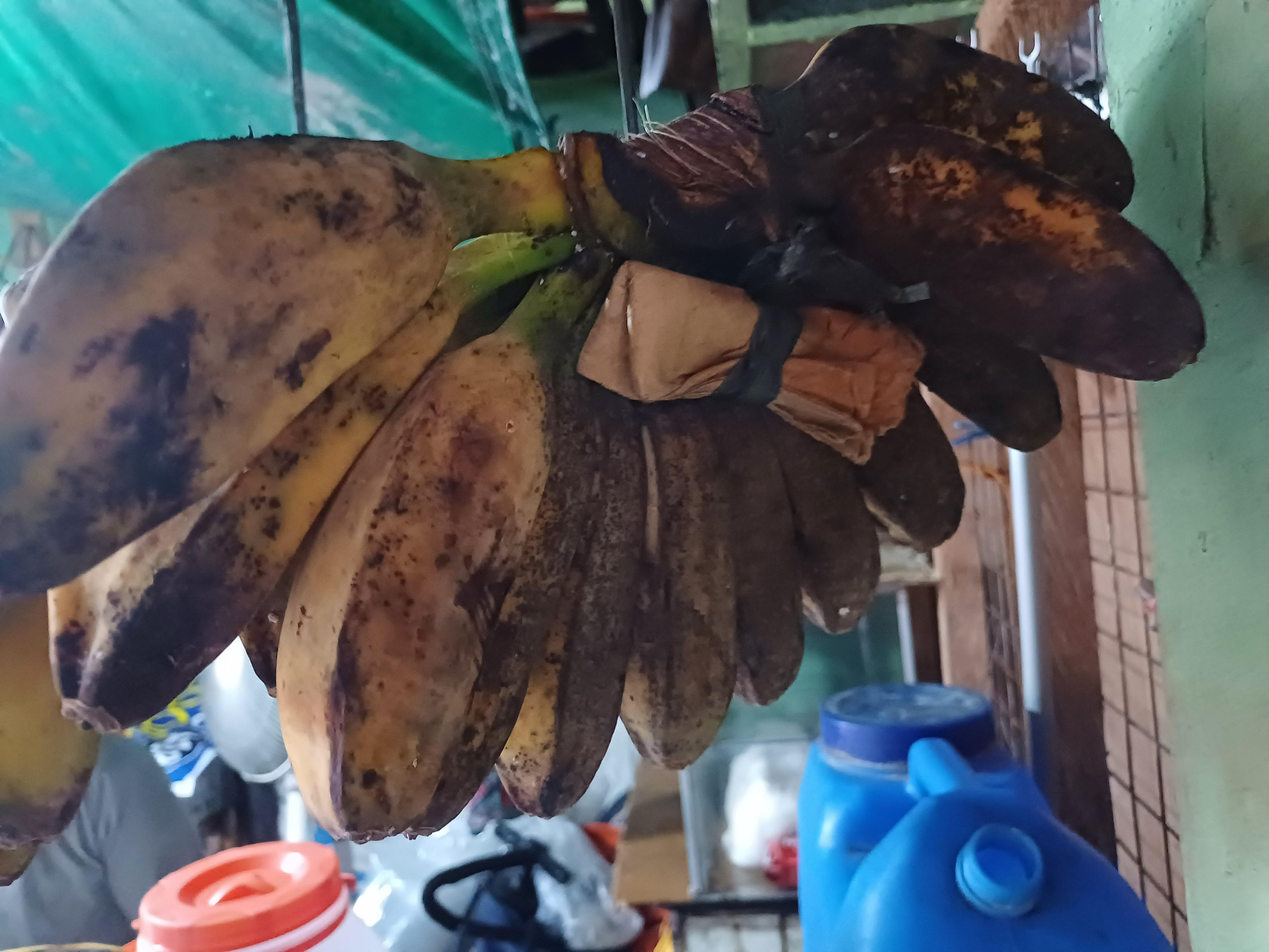overripe: (1, 26, 1206, 846)
